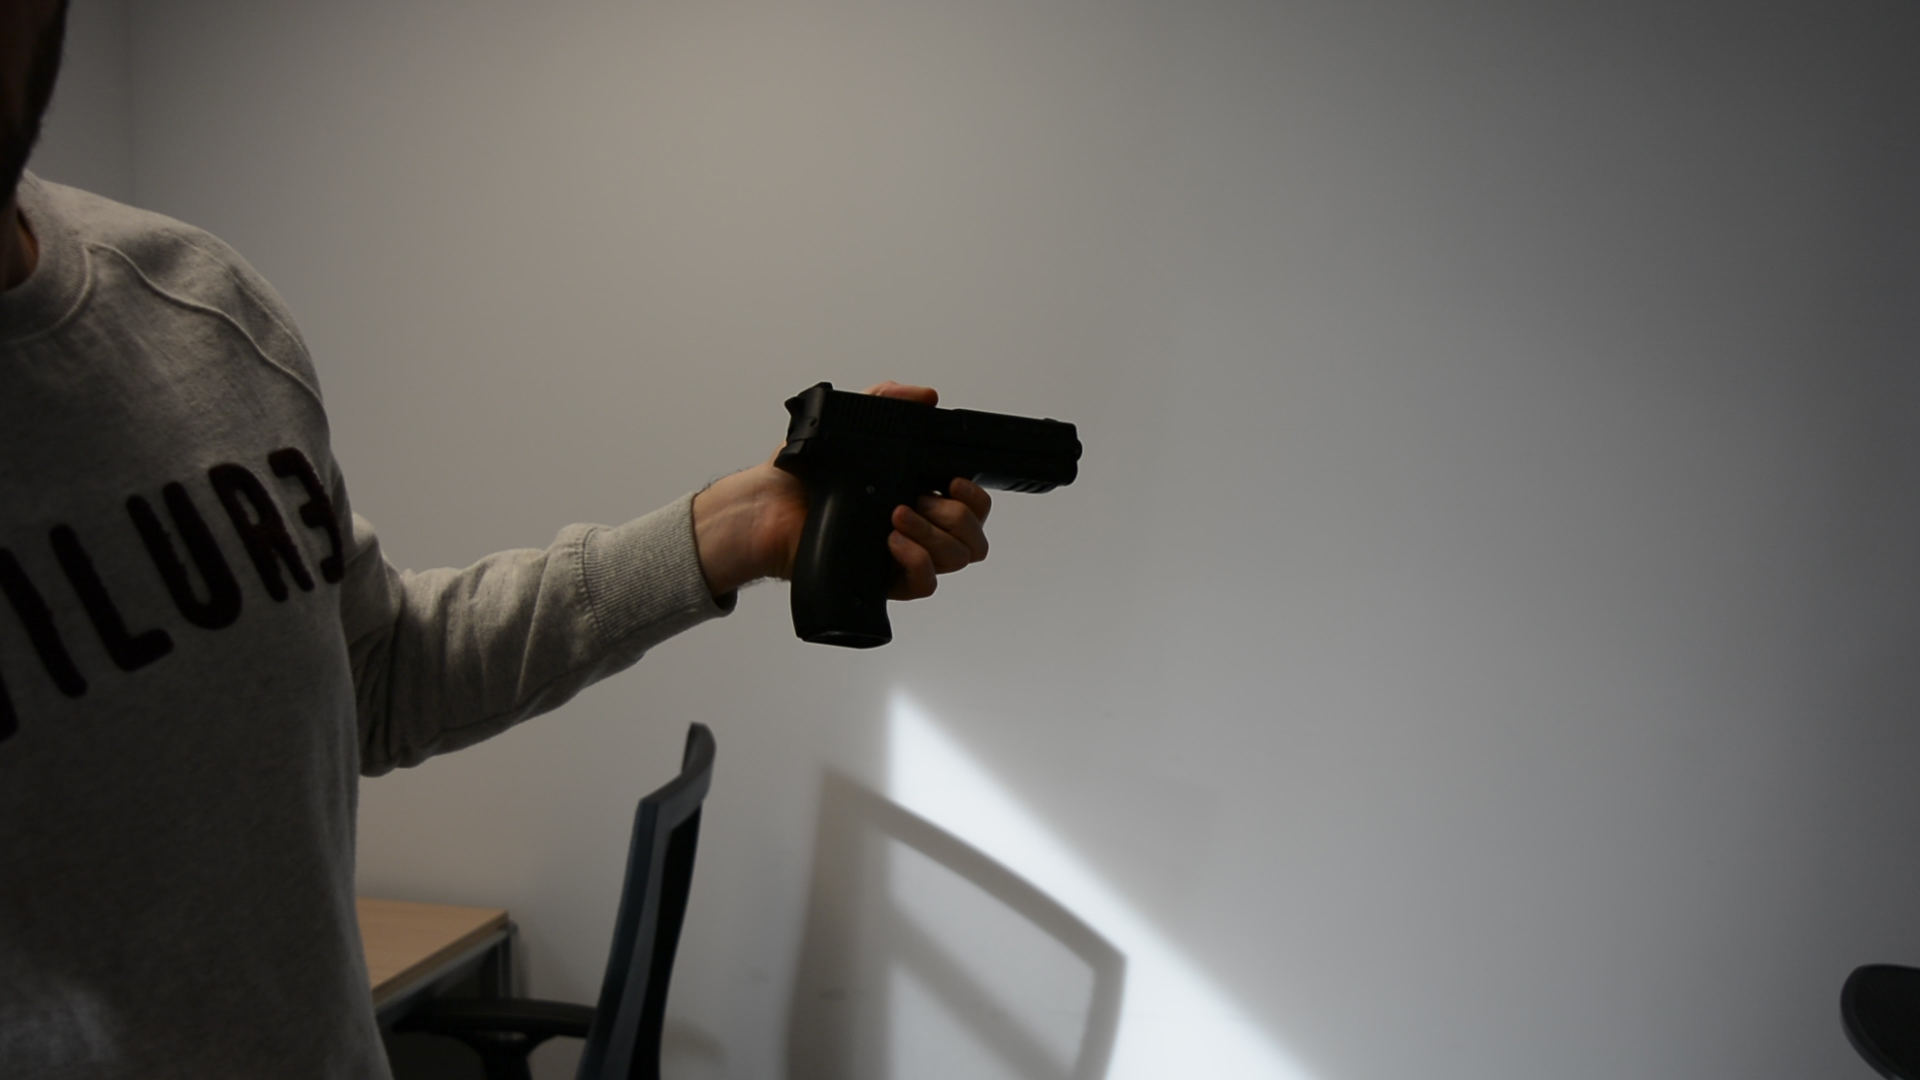pistol: (771, 380, 1085, 651)
